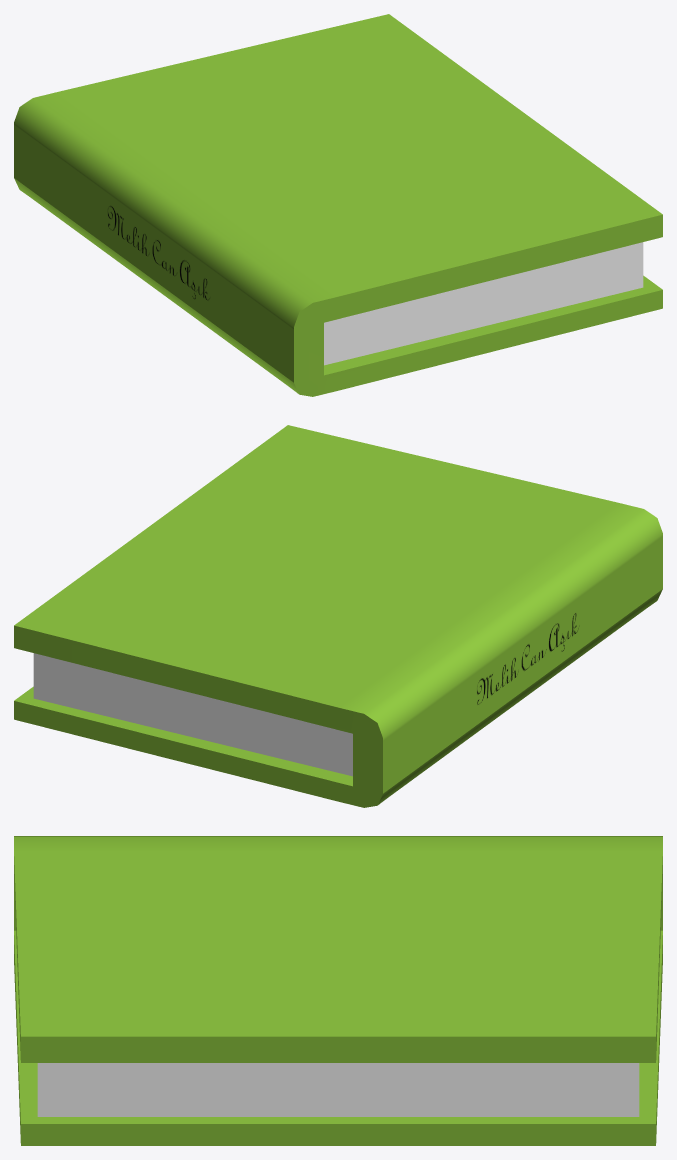
The model's file is furniture_decor_210004.glb.
3 renders of one model, top to bottom at view 1: azimuth 30°, elevation 25°; view 2: azimuth 150°, elevation 25°; view 3: azimuth 270°, elevation 25°, orthographic. The views are drawn at different scales.
Visible parts, largest first — view 1: furniture_decor_210004; view 2: furniture_decor_210004; view 3: furniture_decor_210004.
Boxes of the visible parts, x1=… form: furniture_decor_210004: x1=14, y1=14, x2=662, y2=396; furniture_decor_210004: x1=14, y1=425, x2=662, y2=807; furniture_decor_210004: x1=14, y1=836, x2=662, y2=1145.
Bounding box in the file's own units: 0.1987 × 0.048 × 0.2589.
Materials: 1 (1 with a texture image).
